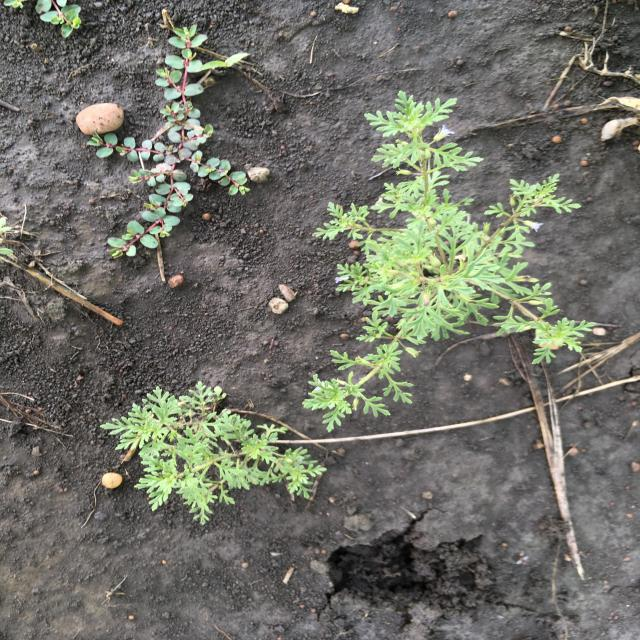Ragweed: (300, 90, 602, 433), (96, 382, 328, 528)
SpottedSpurge: (83, 22, 256, 259), (3, 1, 83, 38)
